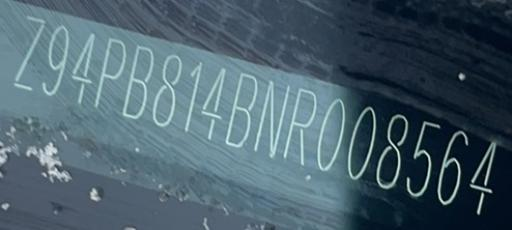letter: (254, 79, 292, 155), (283, 86, 321, 162), (405, 119, 441, 198), (225, 70, 261, 146), (11, 15, 47, 90), (314, 98, 350, 170), (376, 112, 410, 188), (122, 44, 156, 117), (436, 128, 468, 203), (468, 138, 500, 213), (152, 52, 184, 126), (39, 24, 73, 93), (346, 105, 378, 178), (70, 30, 102, 103), (200, 65, 230, 139), (94, 35, 126, 104), (180, 61, 208, 131)
